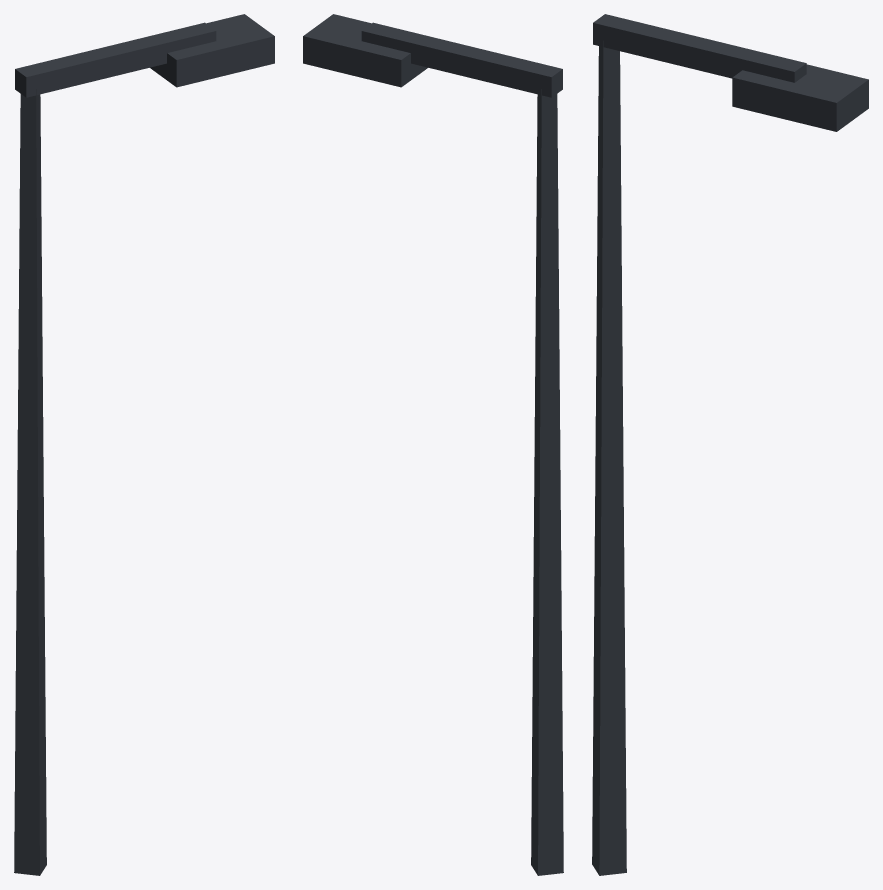
Rendered from P_Lamp.fbx.
3 views of the same model, side by side, from view 1: azimuth 30°, elevation 25°; view 2: azimuth 150°, elevation 25°; view 3: azimuth 330°, elevation 25° (orthographic). The views are drawn at different scales.
Parts seen in each view (by area): view 1: P_Lamp.008; view 2: P_Lamp.008; view 3: P_Lamp.008.
Part boxes in pixels (bbox=[...]): P_Lamp.008: bbox=[14, 14, 274, 875]; P_Lamp.008: bbox=[303, 14, 563, 875]; P_Lamp.008: bbox=[592, 14, 868, 875].
Bounding box in the file's own units: 0.75 × 2.33 × 0.16.
